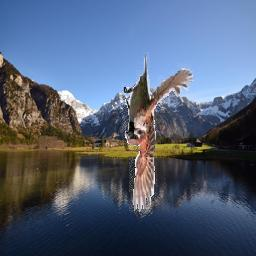Sparrow: (122, 52, 194, 212)
